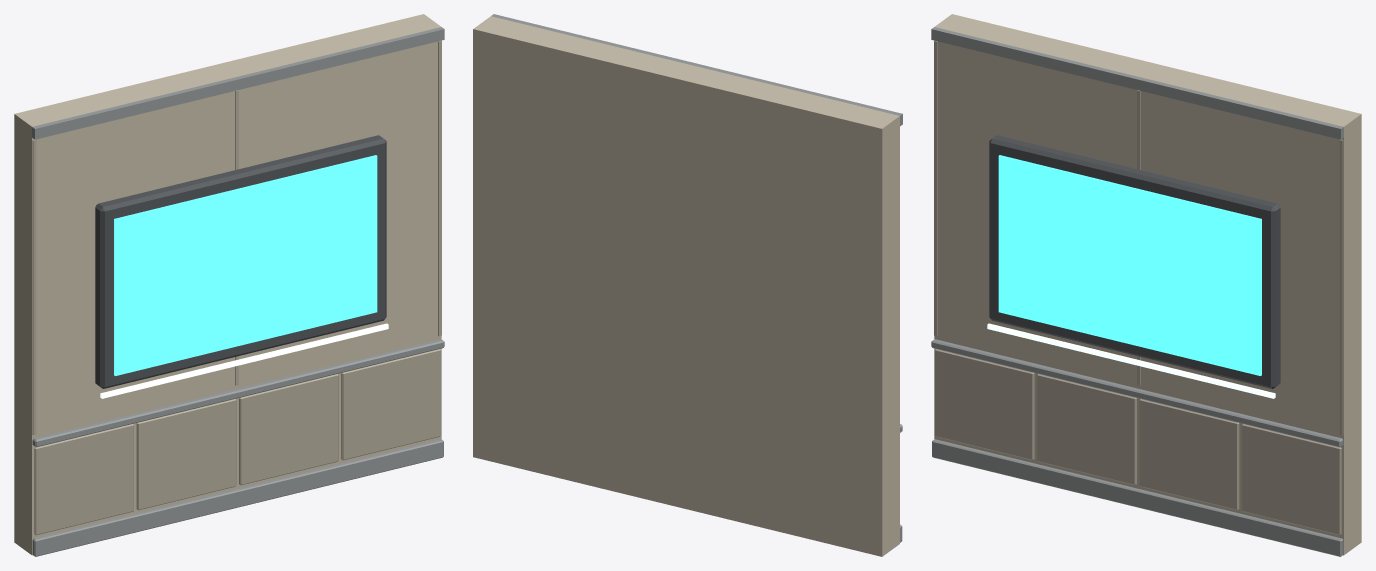
The model's file is wall_an_ad2.glb.
3 renders of one model, left to right at view 1: azimuth 30°, elevation 25°; view 2: azimuth 150°, elevation 25°; view 3: azimuth 330°, elevation 25°, orthographic.
Visible parts, largest first — view 1: wall_an_ad2; view 2: wall_an_ad2; view 3: wall_an_ad2.
Part boxes in pixels (x1=…): wall_an_ad2: x1=14, y1=14, x2=444, y2=556; wall_an_ad2: x1=473, y1=14, x2=902, y2=556; wall_an_ad2: x1=931, y1=14, x2=1361, y2=556.
Bounding box in the file's own units: 4 × 4 × 0.46.
